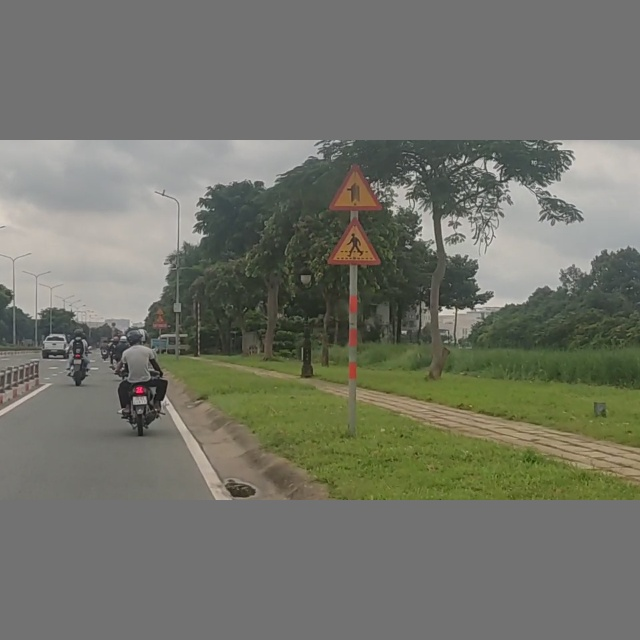W.207: (329, 163, 383, 211)
W.224: (327, 217, 381, 265)
